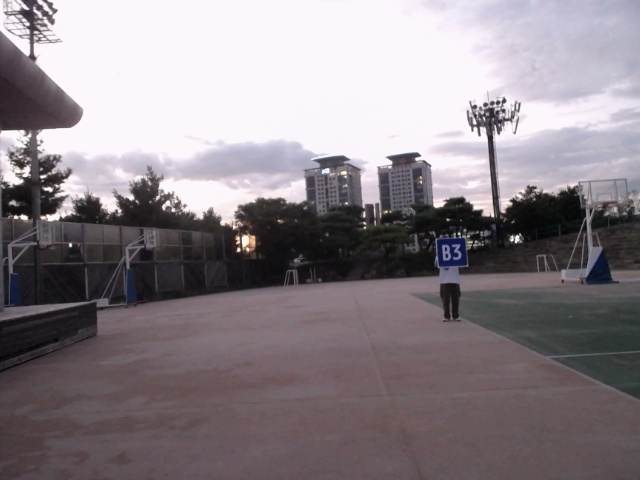delivery_b3: (436, 237, 469, 269)
